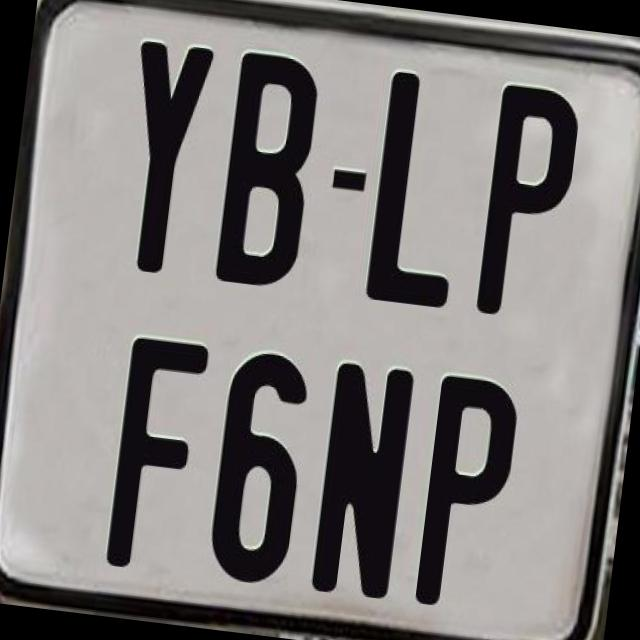6: (204, 346, 320, 592)
B: (210, 46, 322, 291)
F: (100, 334, 208, 578)
L: (362, 70, 476, 318)
N: (308, 356, 421, 601)
P: (413, 374, 526, 620), (470, 82, 578, 329)
Y: (109, 39, 210, 276)
